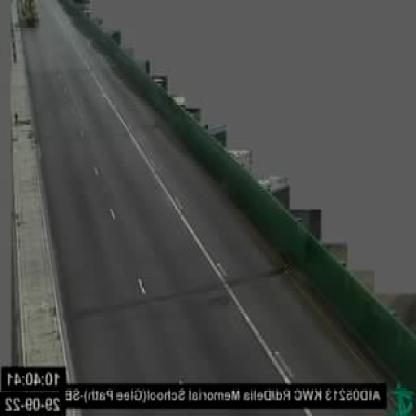Truck: (18, 0, 48, 36)
